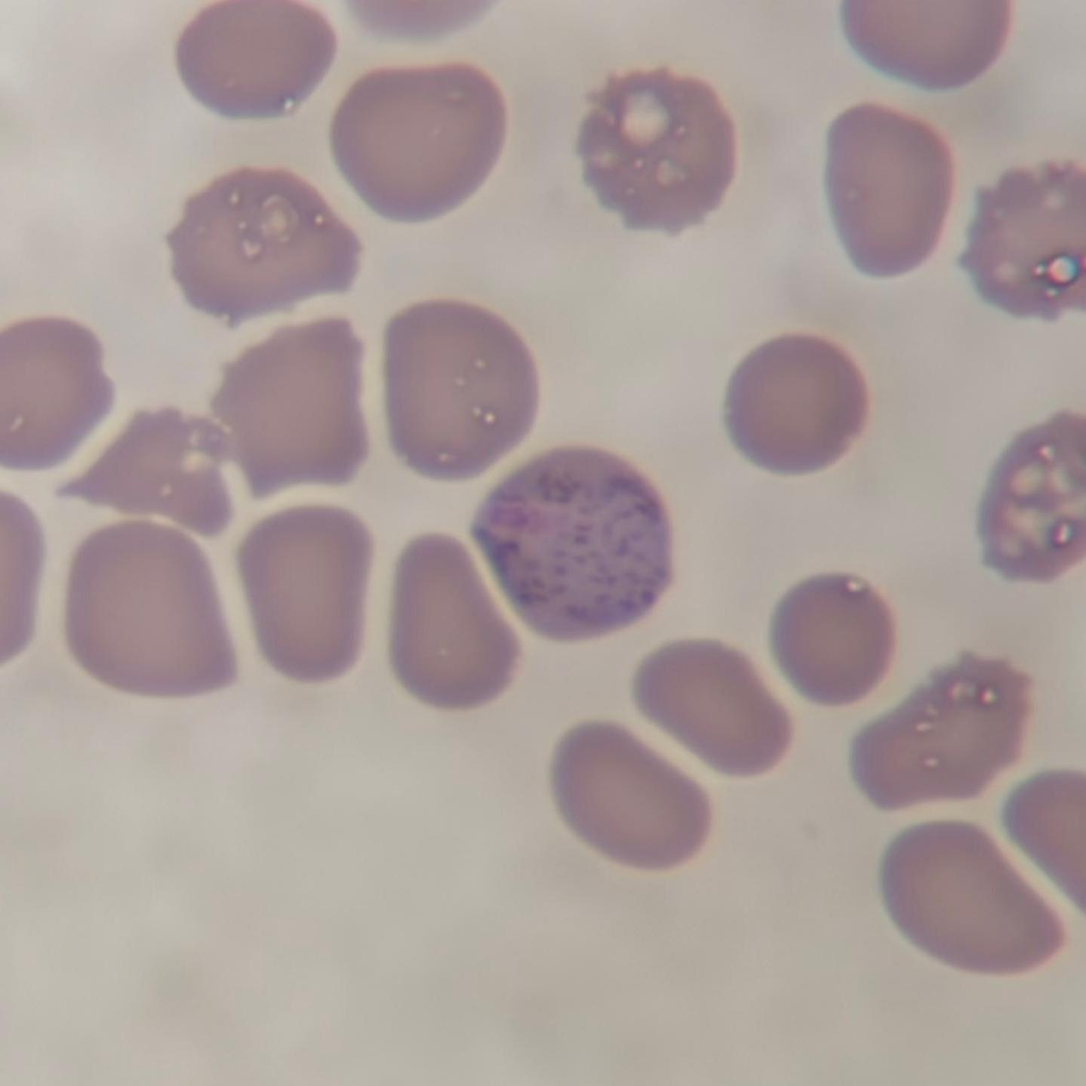Infected: (473, 444, 671, 645)
Uninfected: (327, 61, 513, 234), (68, 517, 242, 692), (850, 645, 1035, 808), (166, 169, 362, 321), (574, 66, 738, 239), (385, 298, 540, 481), (875, 821, 1063, 969), (219, 315, 372, 496), (548, 715, 709, 872), (55, 406, 240, 538), (631, 630, 790, 781), (385, 527, 518, 706), (828, 96, 954, 276), (244, 504, 367, 682), (958, 157, 1086, 318), (723, 333, 864, 476), (179, 1, 334, 120), (981, 408, 1086, 578), (0, 318, 116, 467), (775, 574, 894, 707)
